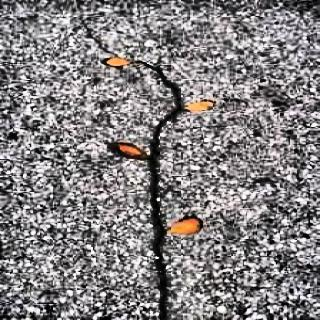crack: (130, 54, 186, 320), (70, 0, 131, 65)
